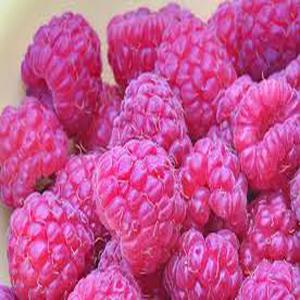raspb: (33, 45, 300, 300)
